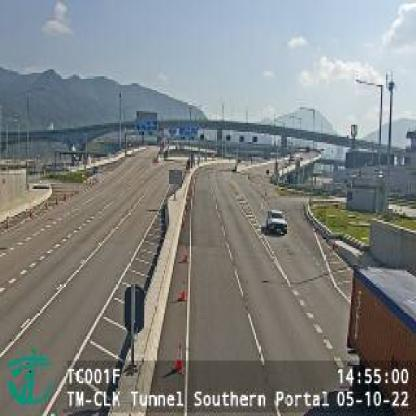Car: (265, 208, 286, 236)
Truck: (348, 267, 414, 412)
